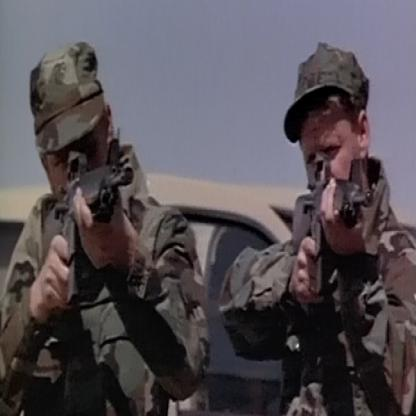Gun: (38, 148, 135, 297), (289, 151, 375, 295)
